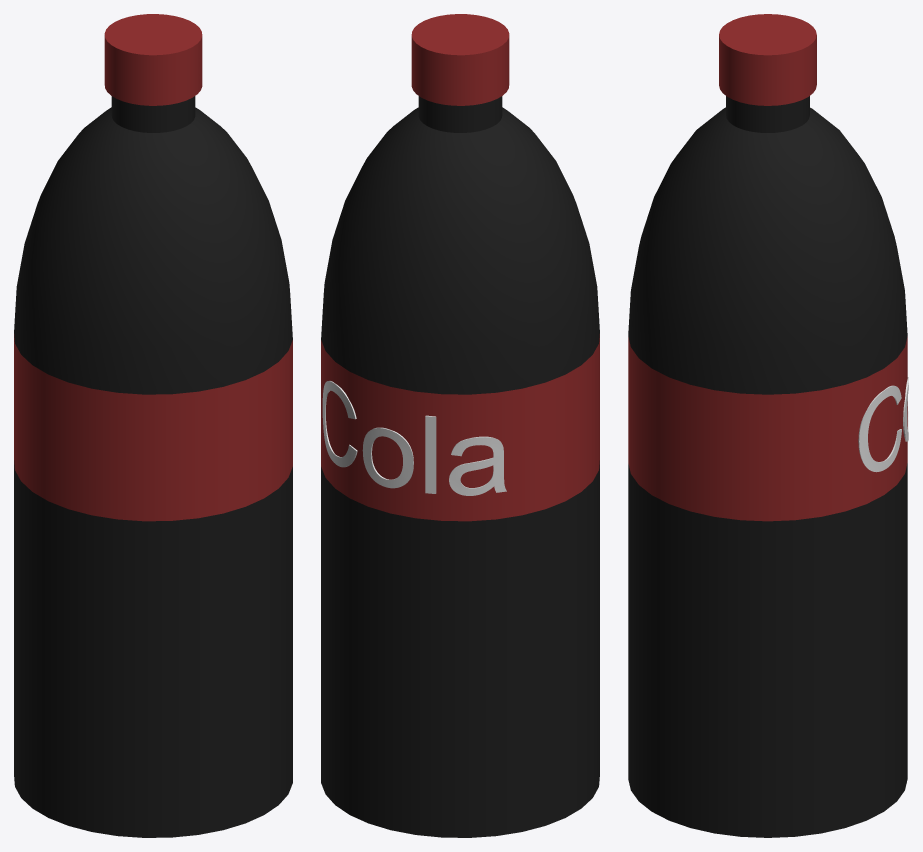
The model's file is Cola (textured).FBX.
The picture shows the model from 3 angles, left to right: view 1: azimuth 30°, elevation 25°; view 2: azimuth 150°, elevation 25°; view 3: azimuth 270°, elevation 25°; orthographic projection.
Parts seen in each view (by area): view 1: Cylinder010, Sphere001g, Cylinder011, Cylinder013, Cylinder012; view 2: Cylinder010, Sphere001g, Cylinder011, Cylinder013, TextPlus001, Cylinder012; view 3: Cylinder010, Sphere001g, Cylinder011, Cylinder013, Cylinder012, TextPlus001.
Boxes of the visible parts, box(x1,y1,x2,y2) form: Cylinder010: box(14, 460, 292, 837); Sphere001g: box(14, 107, 292, 394); Cylinder011: box(14, 334, 292, 521); Cylinder013: box(104, 14, 202, 105); Cylinder012: box(111, 96, 195, 132); Cylinder010: box(321, 460, 599, 837); Sphere001g: box(321, 107, 599, 394); Cylinder011: box(321, 334, 599, 521); Cylinder013: box(411, 14, 509, 105); TextPlus001: box(322, 381, 506, 495); Cylinder012: box(418, 96, 502, 132); Cylinder010: box(628, 463, 907, 837); Sphere001g: box(628, 107, 907, 394); Cylinder011: box(628, 336, 907, 521); Cylinder013: box(719, 14, 816, 105); Cylinder012: box(726, 96, 809, 132); TextPlus001: box(858, 377, 908, 472).
Size of the model in its own units: 4.75 by 13.95 by 4.77.
